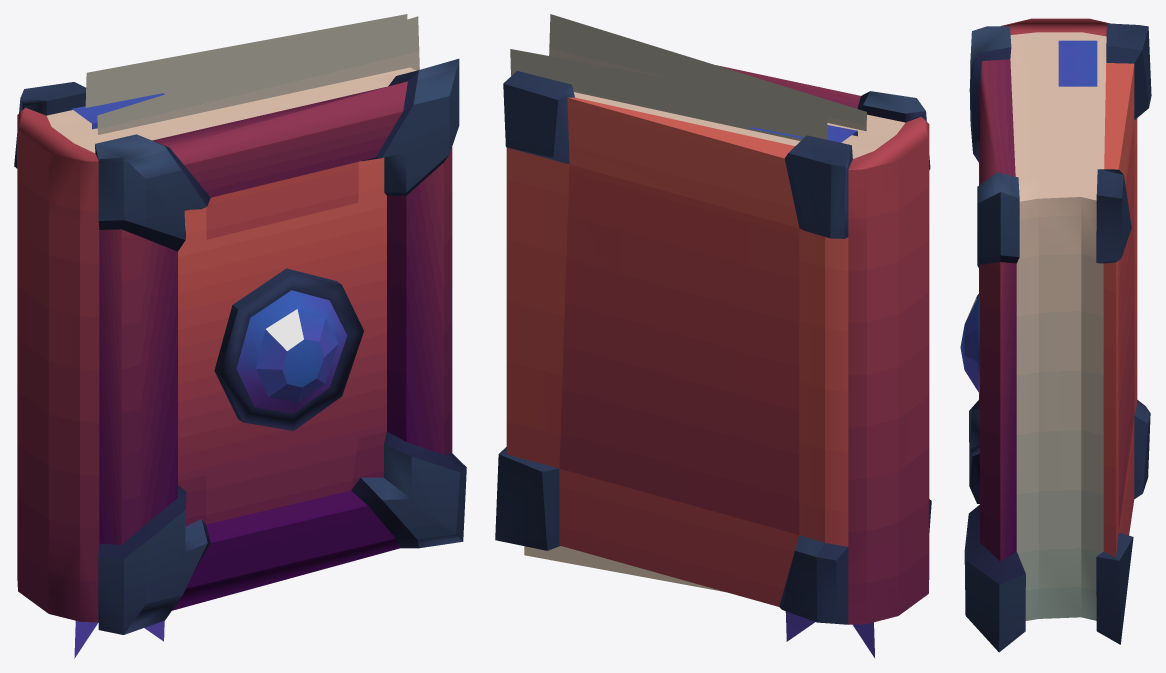
File: Spellbook_Closed.fbx
3 views of the same model, side by side, from view 1: azimuth 30°, elevation 25°; view 2: azimuth 150°, elevation 25°; view 3: azimuth 270°, elevation 25° (orthographic). The views are drawn at different scales.
Parts seen in each view (by area): view 1: pPlane11; view 2: pPlane11; view 3: pPlane11.
Boxes of the visible parts, left/top/right/bottom form: pPlane11: left=14, top=14, right=466, bottom=658; pPlane11: left=495, top=14, right=931, bottom=657; pPlane11: left=960, top=18, right=1151, bottom=652.
Bounding box in the file's own units: 1.84 × 2.5 × 0.7993.
